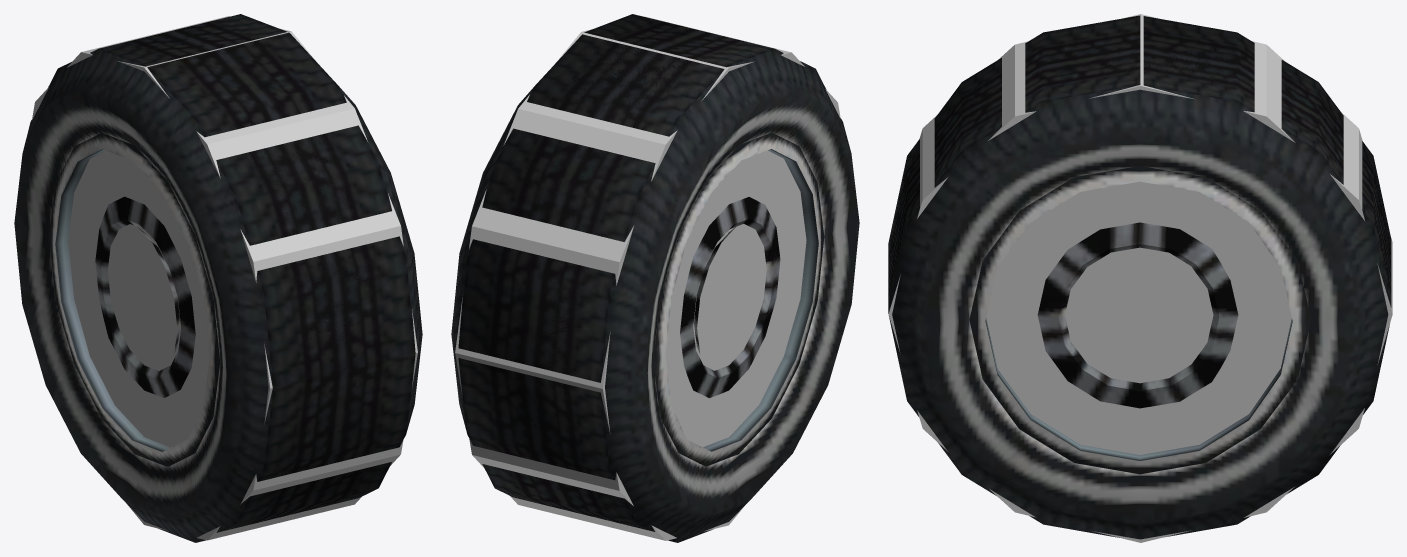
File: tire_5_out.glb
3 renders of one model, left to right at view 1: azimuth 30°, elevation 25°; view 2: azimuth 150°, elevation 25°; view 3: azimuth 270°, elevation 25°, orthographic.
Visible parts, largest first — view 1: Surface4, Surface8, tire_fl_shadow, Surface5, Surface9; view 2: Surface4, Surface8, tire_fl_shadow, Surface5, Surface9; view 3: Surface8, tire_fl_shadow, Surface4, Surface9, Surface5.
Part boxes in pixels (x1,y1,x2,y2): Surface4: (14, 19, 392, 542); Surface8: (49, 14, 422, 542); tire_fl_shadow: (32, 16, 417, 540); Surface5: (95, 196, 195, 397); Surface9: (55, 149, 170, 451); Surface4: (459, 14, 859, 542); Surface8: (451, 14, 824, 542); tire_fl_shadow: (455, 16, 840, 540); Surface5: (680, 197, 780, 398); Surface9: (703, 149, 818, 451); Surface8: (888, 16, 1390, 539); tire_fl_shadow: (888, 14, 1392, 542); Surface4: (888, 15, 1391, 474); Surface9: (1037, 222, 1238, 408); Surface5: (985, 318, 1292, 460).
Bounding box in the file's own units: 0.3339 × 0.76 × 0.7602.
